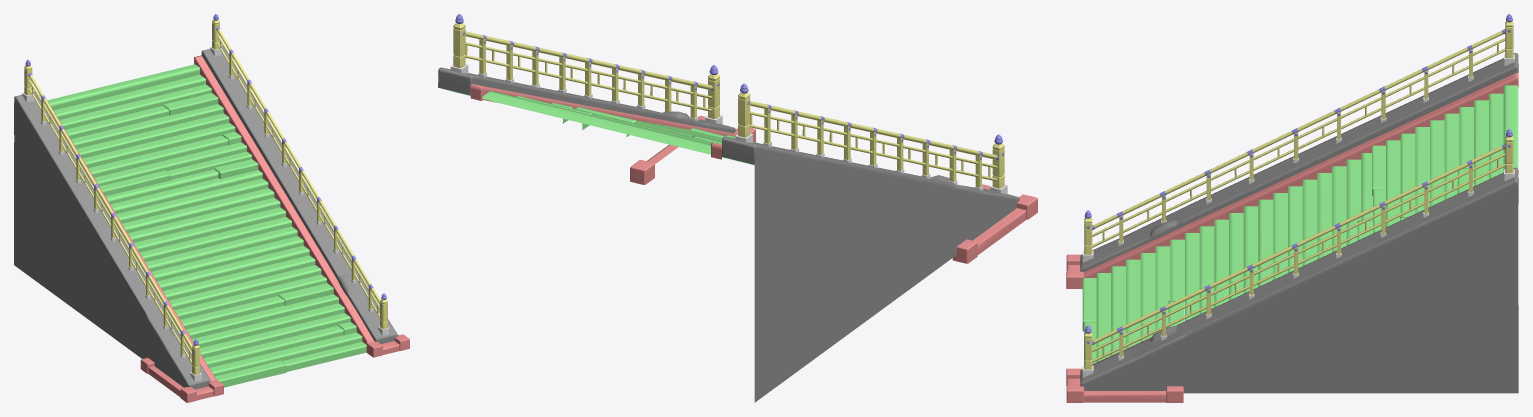
File: SM_ENV_LKNVLD_Ground_StairCase_02_Lod2.gltf
3 views of the same model, side by side, from view 1: azimuth 30°, elevation 25°; view 2: azimuth 150°, elevation 25°; view 3: azimuth 270°, elevation 25° (orthographic). The views are drawn at different scales.
Visible parts, largest first — view 1: SM_ENV_LKNVLD_Ground_StairCase_02_Lod2; view 2: SM_ENV_LKNVLD_Ground_StairCase_02_Lod2; view 3: SM_ENV_LKNVLD_Ground_StairCase_02_Lod2.
Boxes of the visible parts, bbox=[...] form: SM_ENV_LKNVLD_Ground_StairCase_02_Lod2: bbox=[14, 14, 409, 402]; SM_ENV_LKNVLD_Ground_StairCase_02_Lod2: bbox=[438, 14, 1037, 402]; SM_ENV_LKNVLD_Ground_StairCase_02_Lod2: bbox=[1066, 14, 1518, 402].
Bounding box in the file's own units: 8.79 × 7.9 × 12.3.
